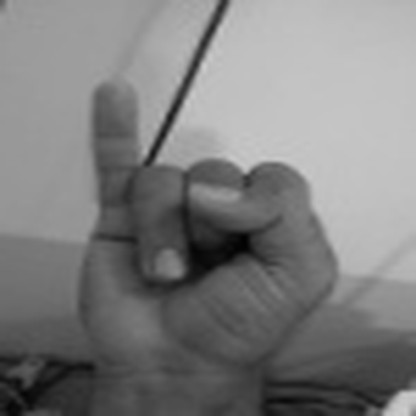i: (70, 72, 338, 380)
